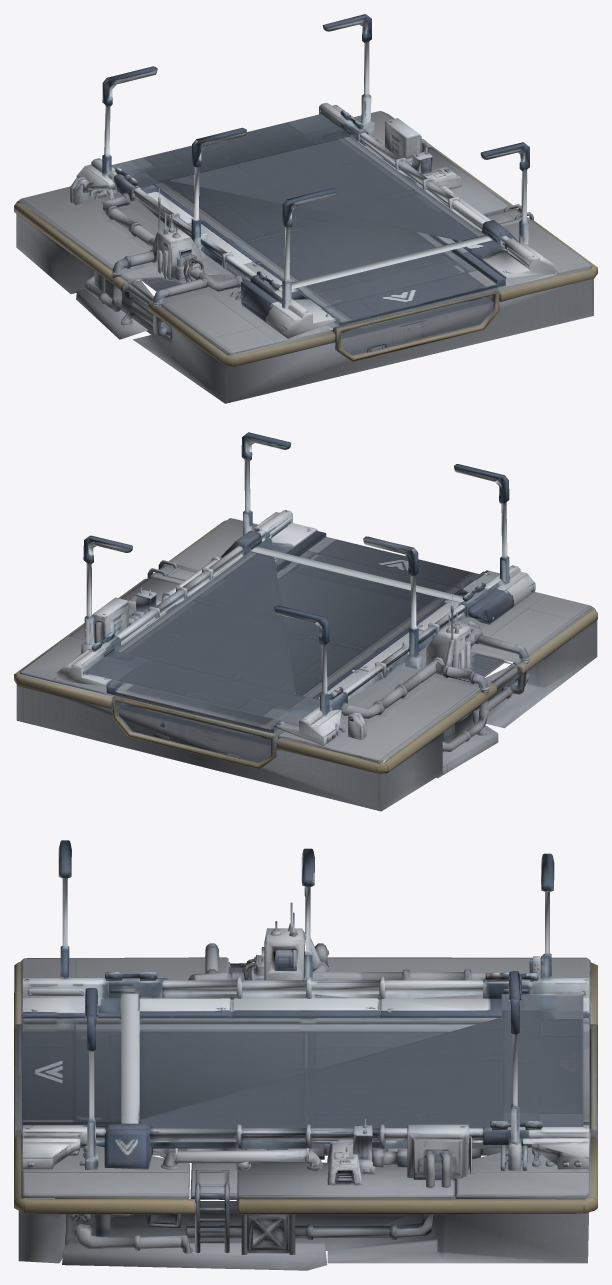
File: 城市_直線道路.glb
The picture shows the model from 3 angles, top to bottom: view 1: azimuth 30°, elevation 25°; view 2: azimuth 150°, elevation 25°; view 3: azimuth 270°, elevation 25°; orthographic projection. The views are drawn at different scales.
Visible parts, largest first — view 1: 城市_直線道路; view 2: 城市_直線道路; view 3: 城市_直線道路.
Part boxes in pixels (box(x1,y1,x2,y2)): 城市_直線道路: box(14, 14, 597, 403); 城市_直線道路: box(14, 432, 597, 811); 城市_直線道路: box(14, 840, 597, 1270).
Size of the model in its own units: 1 by 0.4692 by 1.
1 material, 1 textured.
